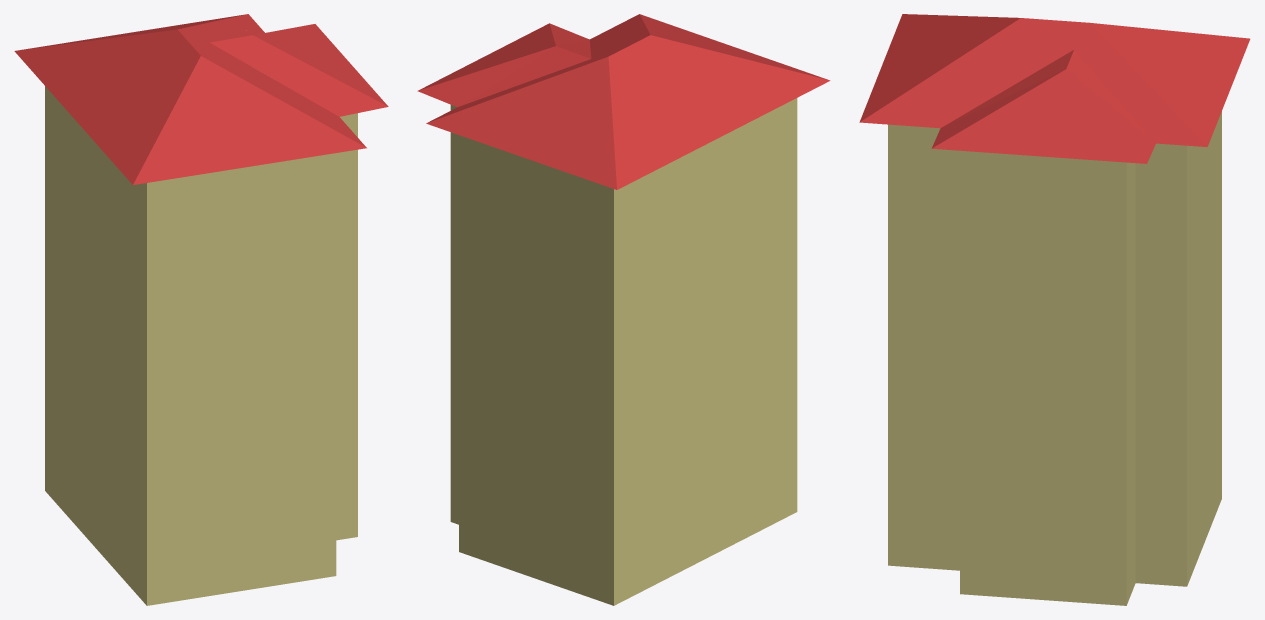
3 views of the same model, side by side, from view 1: azimuth 30°, elevation 25°; view 2: azimuth 150°, elevation 25°; view 3: azimuth 270°, elevation 25° (orthographic). The views are drawn at different scales.
Parts seen in each view (by area): view 1: group_10, group_8, group_6, group_3, group_9, group_5; view 2: group_10, group_8, group_3, group_6, group_9, group_5; view 3: group_6, group_10, group_8, group_3, group_9, group_5.
Part boxes in pixels (x1,y1,x2,y2): group_10: (45, 86, 336, 605); group_8: (14, 14, 366, 184); group_6: (336, 113, 357, 540); group_3: (210, 24, 388, 116); group_9: (16, 14, 366, 184); group_5: (301, 25, 386, 116); group_10: (459, 98, 797, 605); group_8: (426, 14, 830, 189); group_3: (418, 23, 591, 107); group_6: (450, 105, 458, 524); group_9: (429, 14, 828, 188); group_5: (419, 23, 587, 105); group_6: (960, 150, 1140, 605); group_10: (888, 111, 1221, 586); group_8: (859, 14, 1250, 146); group_3: (932, 50, 1155, 163); group_9: (860, 14, 1249, 146); group_5: (933, 118, 1155, 163).
Bounding box in the file's own units: 10.89 × 11.81 × 17.03.
